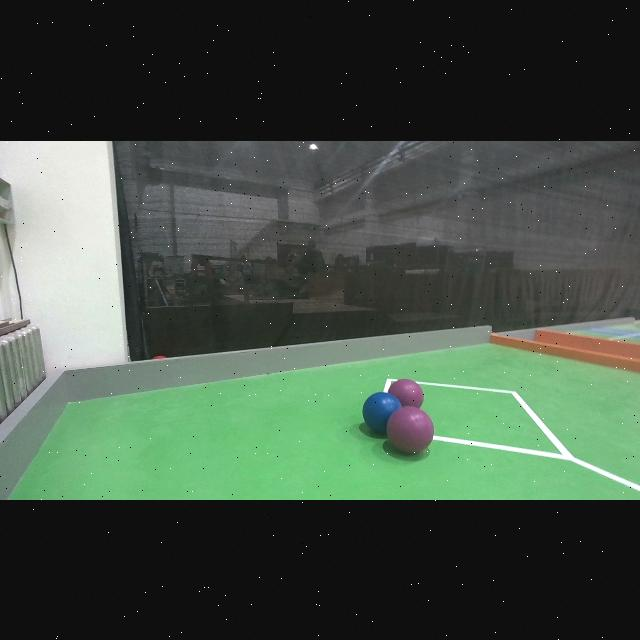B: (362, 392, 402, 432)
P: (386, 376, 424, 409)
R: (386, 405, 434, 453)
